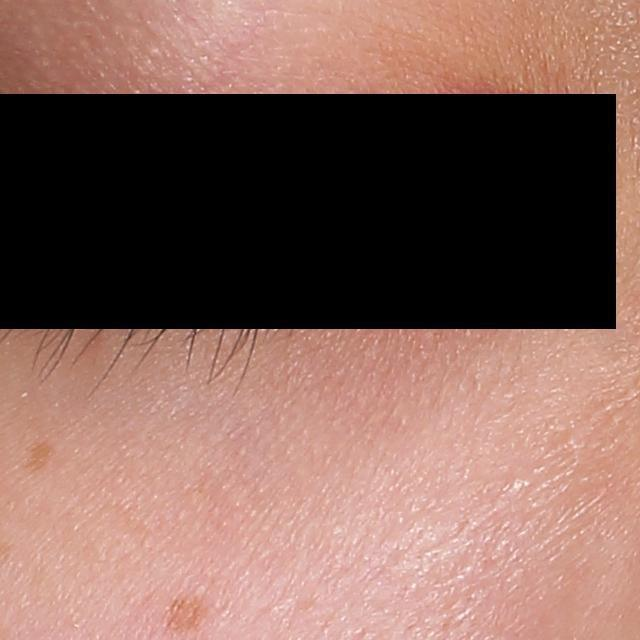melasma: (163, 593, 214, 637), (21, 434, 57, 473)
